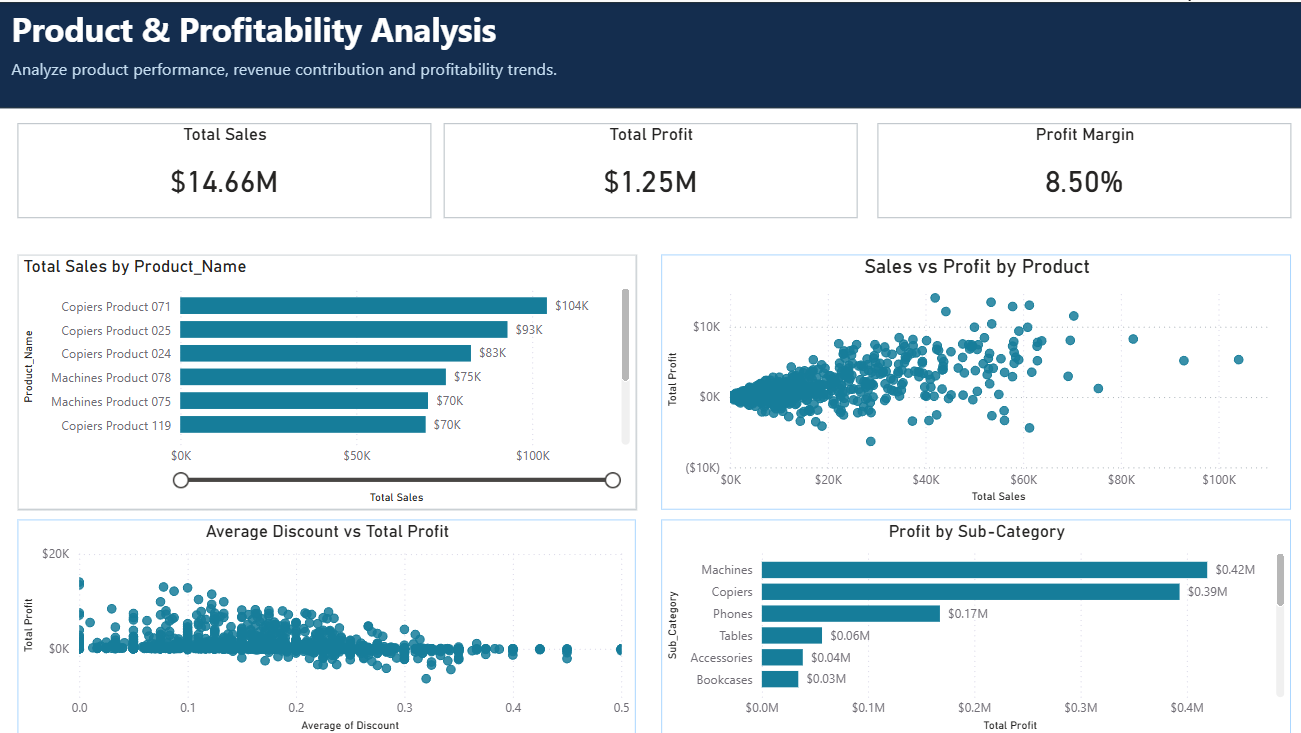

Layout of this report page (visuals, bound fields, positions):
{"tool":"powerbi","page":{"name":"Page 2","canvas":[1280,720],"ordinal":1},"visuals":[{"type":"shape","box":[0,0,1280.3,103.9],"z":0},{"type":"textbox","box":[11,0,523.4,64.8],"z":1000},{"type":"textbox","box":[11,48.9,550.3,55],"z":2000},{"type":"clusteredBarChart","fields":{"Category":["sales_performance_10000.Product_Name"],"Y":["sales_performance_10000.Total Sales"]},"box":[22,247,605.3,249.5],"z":3000},{"type":"card","title":"Total Sales","fields":{"Values":["sales_performance_10000.Total Sales"]},"box":[22,118.6,404.8,92.9],"z":4000},{"type":"card","title":"Total Profit","fields":{"Values":["sales_performance_10000.Total Profit"]},"box":[439,118.6,404.8,92.9],"z":5000},{"type":"card","title":"Profit Margin","fields":{"Values":["sales_performance_10000.Profit Margin"]},"box":[863.3,118.6,404.8,92.9],"z":6000},{"type":"scatterChart","title":"Sales vs Profit by Product","fields":{"Category":["sales_performance_10000.Product_Name"],"X":["sales_performance_10000.Total Sales"],"Y":["sales_performance_10000.Total Profit"]},"box":[651.8,247,616.3,249.5],"z":7000},{"type":"scatterChart","title":"Average Discount vs Total Profit","fields":{"Category":["sales_performance_10000.Product_Name"],"X":["Avg(sales_performance_10000.Discount)"],"Y":["sales_performance_10000.Total Profit"]},"box":[22,506,605,214],"z":8000},{"type":"clusteredBarChart","title":"Profit by Sub-Category","fields":{"Category":["sales_performance_10000.Sub_Category"],"Y":["sales_performance_10000.Total Profit"]},"box":[652,506,616,214],"z":9000}]}

Visuals, with their boxes in screenshot pixels (x1, y1, x2, y2), scaled from the page's 1280x720 canvas onto the 1301x733 screenshot:
shape: left=0, top=0, right=1300, bottom=106
textbox: left=11, top=0, right=543, bottom=66
textbox: left=11, top=50, right=571, bottom=106
clusteredBarChart - sales_performance_10000.Product_Name x sales_performance_10000.Total Sales: left=22, top=251, right=638, bottom=505
"Total Sales" card: left=22, top=121, right=434, bottom=215
"Total Profit" card: left=446, top=121, right=858, bottom=215
"Profit Margin" card: left=877, top=121, right=1289, bottom=215
"Sales vs Profit by Product" scatterChart: left=662, top=251, right=1289, bottom=505
"Average Discount vs Total Profit" scatterChart: left=22, top=515, right=637, bottom=732
"Profit by Sub-Category" clusteredBarChart: left=663, top=515, right=1289, bottom=732
